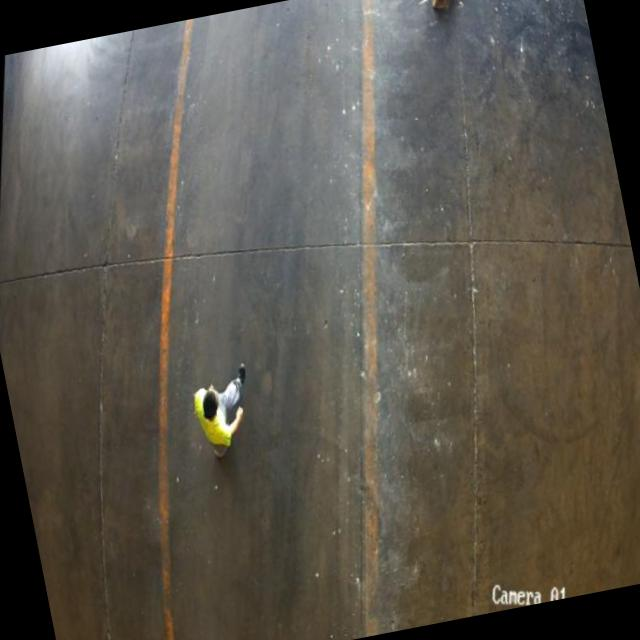person: (160, 336, 273, 489)
